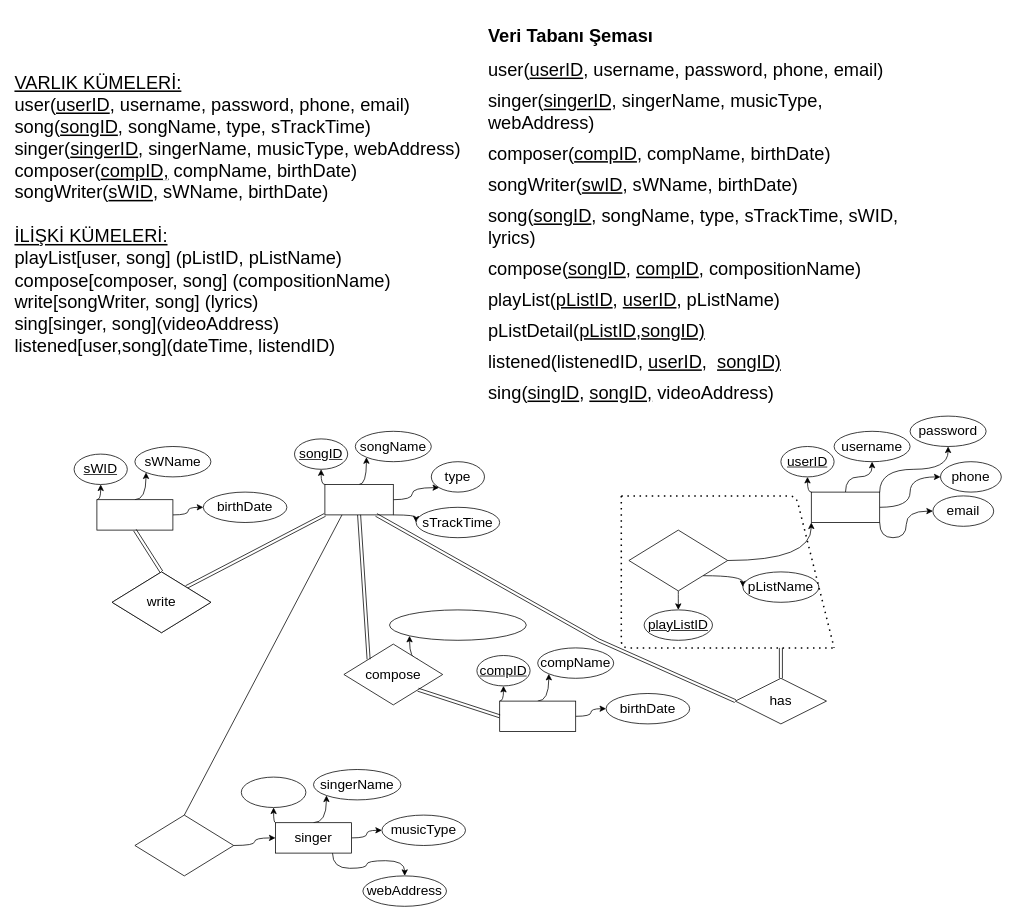
This 1015x920 diagram has some shape labels left out. Here are the shapes that lost their labels. From the top down, the centre of each, then its label:
At (134,514): "songWriter".
At (358,499): "song".
At (845,506): "user".
At (678,560): "playList".
At (457,624): "compositionName".
At (537,716): "composer".
At (273,792): "singerID".
At (184,845): "sing".
